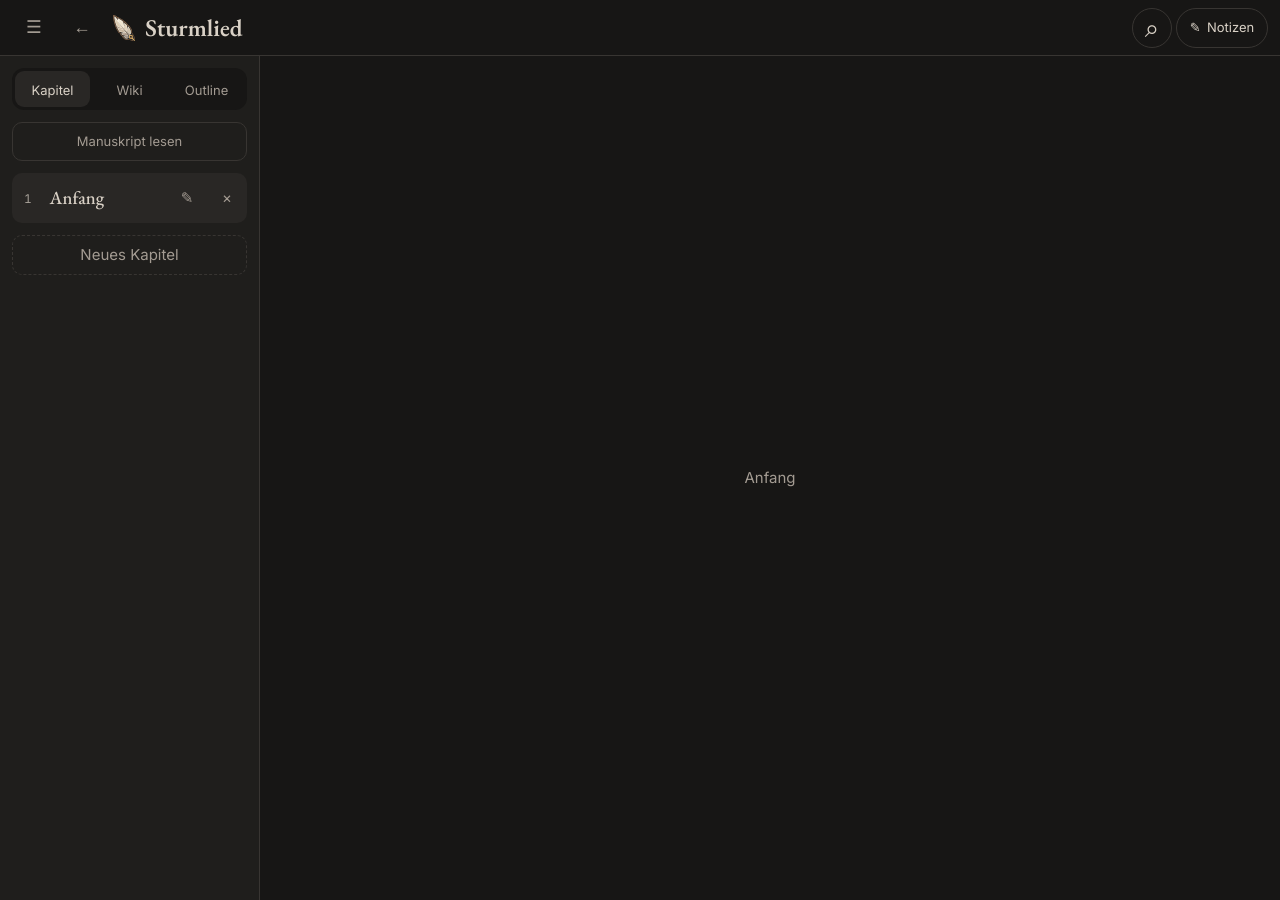
Test: a failed rename is reported instead of vanishing
Click the button named "Kapitel umbenennen" at (187, 198), box x1=167 y1=178 x2=207 y2=218
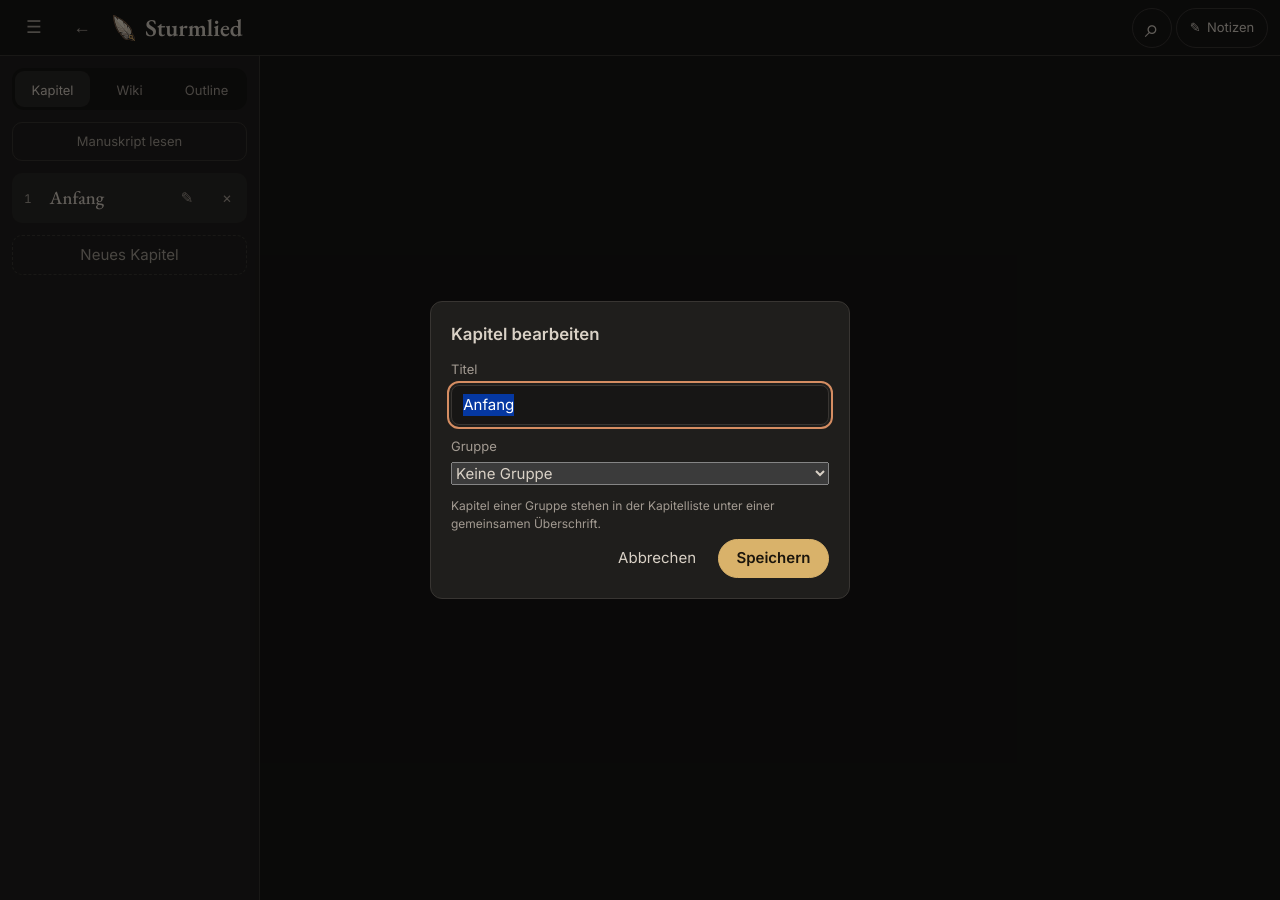
Click the button "Speichern" at (773, 558), box x1=718 y1=539 x2=829 y2=578
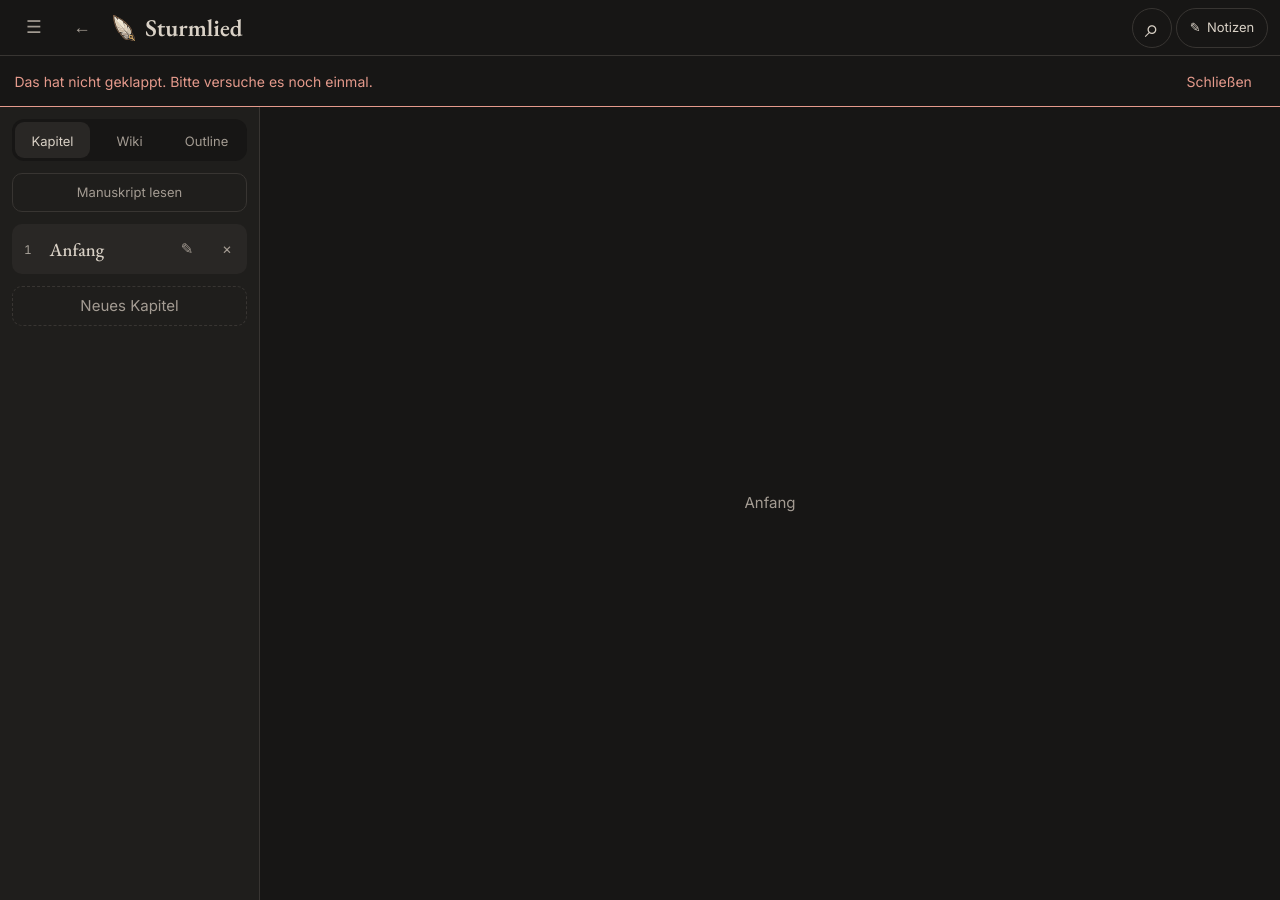
Result: the message shows "Das hat nicht geklappt" at x1=14 y1=73 x2=373 y2=90
